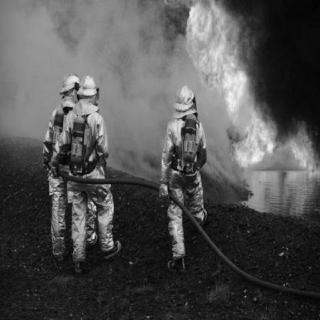Fire: (186, 4, 316, 172)
Smoke: (9, 12, 65, 104), (83, 8, 161, 68)
other: (113, 175, 159, 192)
